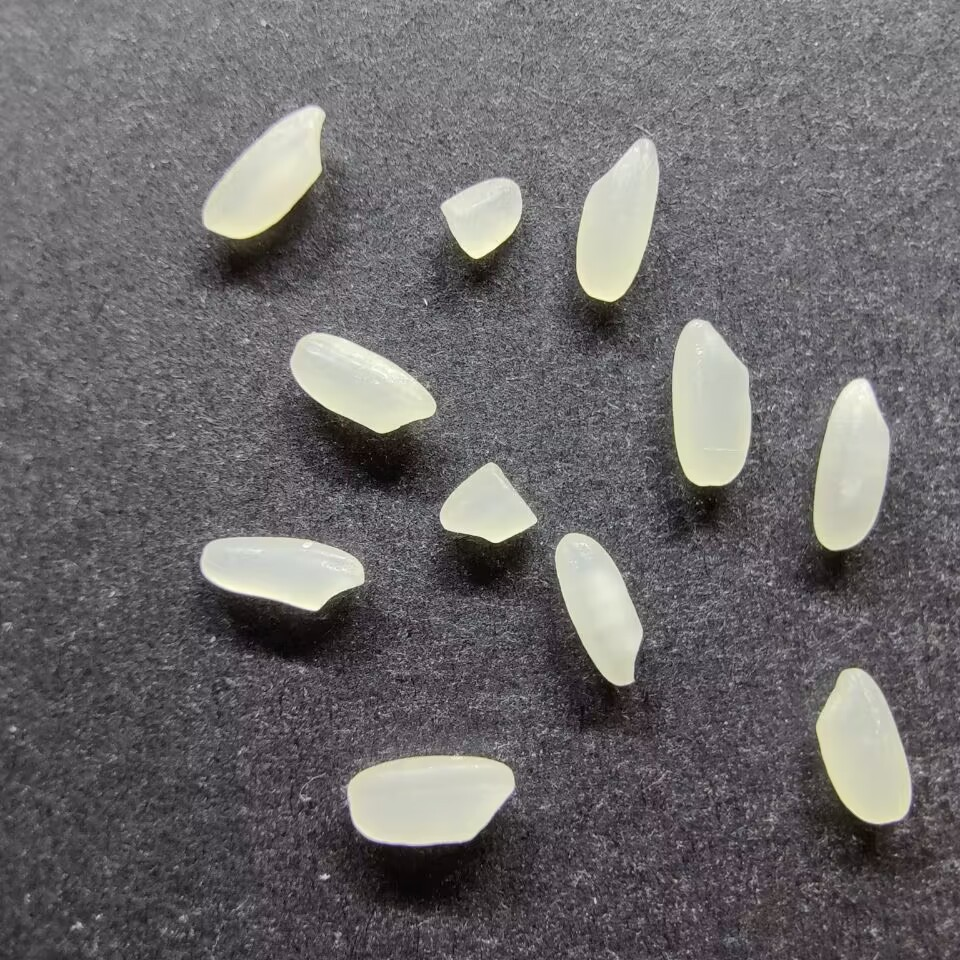broken: (437, 456, 537, 547), (437, 175, 524, 261)
rice: (198, 100, 327, 240), (812, 666, 916, 825), (343, 753, 517, 847), (287, 330, 438, 436), (572, 133, 661, 304), (551, 529, 645, 689), (669, 316, 752, 490), (810, 376, 892, 552), (196, 532, 366, 613)
